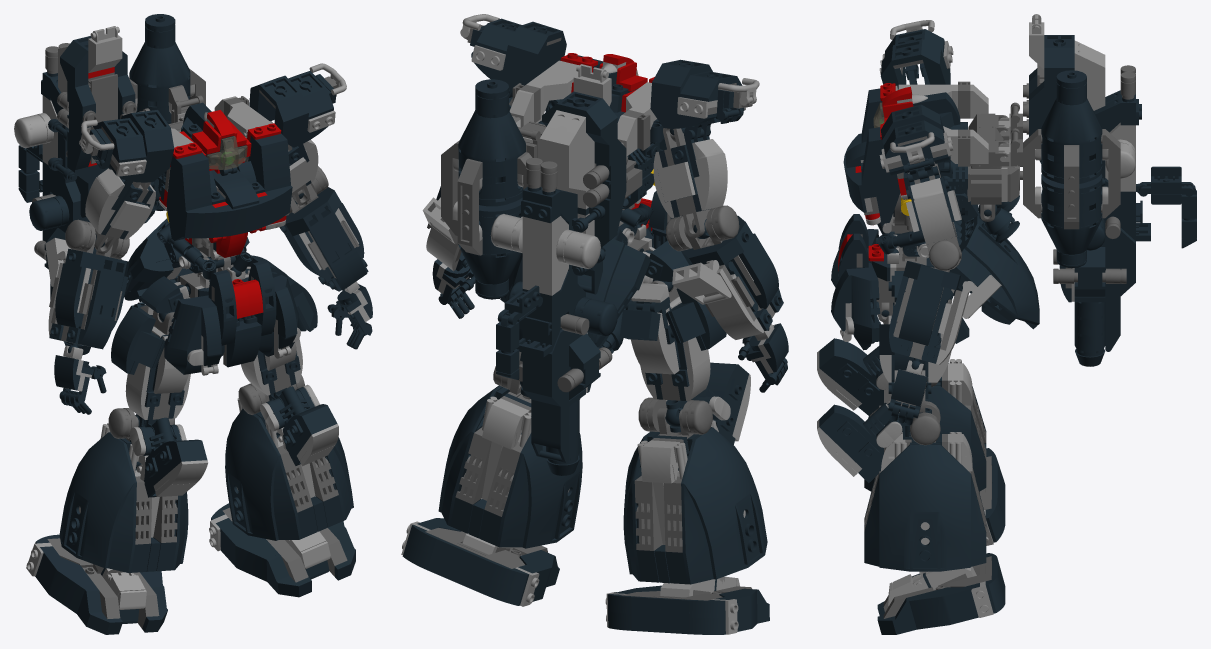
File: ms-09r-dom.dae
3 renders of one model, left to right at view 1: azimuth 30°, elevation 25°; view 2: azimuth 150°, elevation 25°; view 3: azimuth 270°, elevation 25°, orthographic. The views are drawn at different scales.
Bounding box in the file's own units: 467 × 498 × 785.
